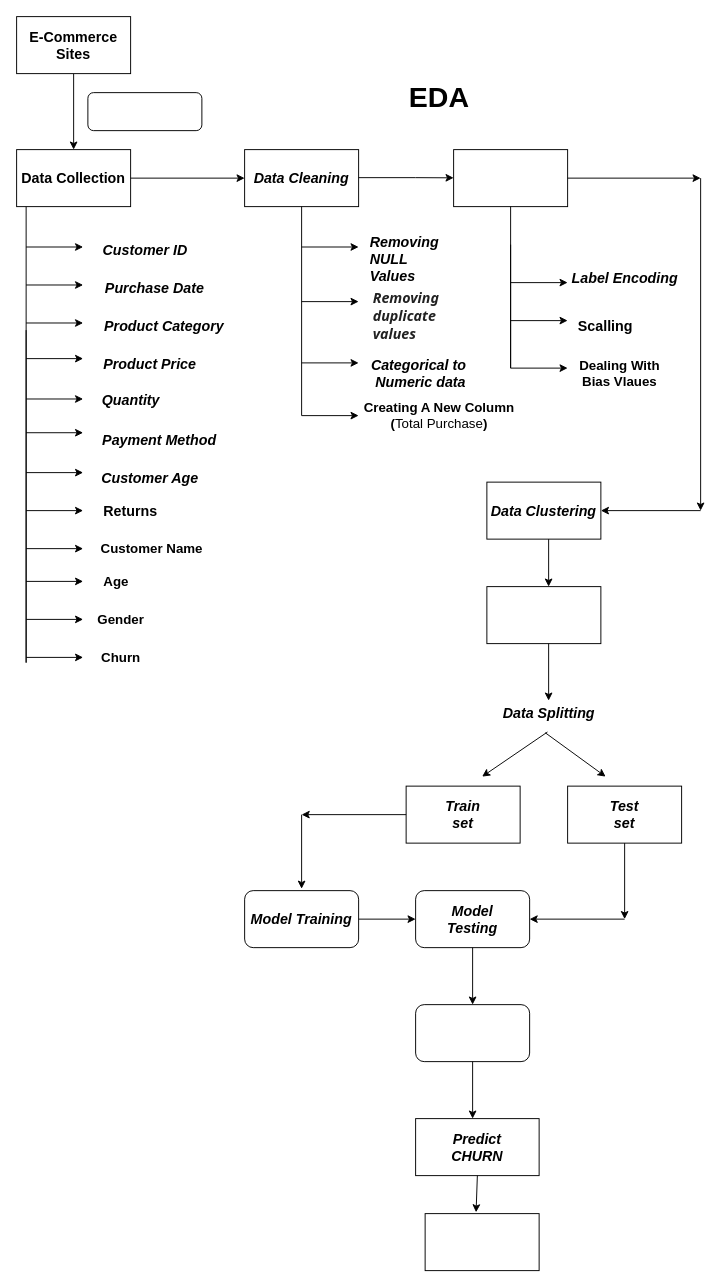
Some shapes in this 725 by 1287 pixel diagram are drawn without their labels. The centre of each missing label's shape, as x and y in pixels:
Data Labeling: point (543, 615)
Data Preprocessing: point (510, 178)
Display On the Webpage: point (481, 1242)
Model: point (472, 1033)
Scrap the Raw Data: point (144, 111)
